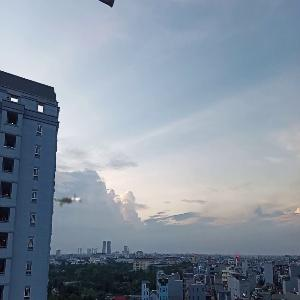drone: (14, 144, 133, 263)
